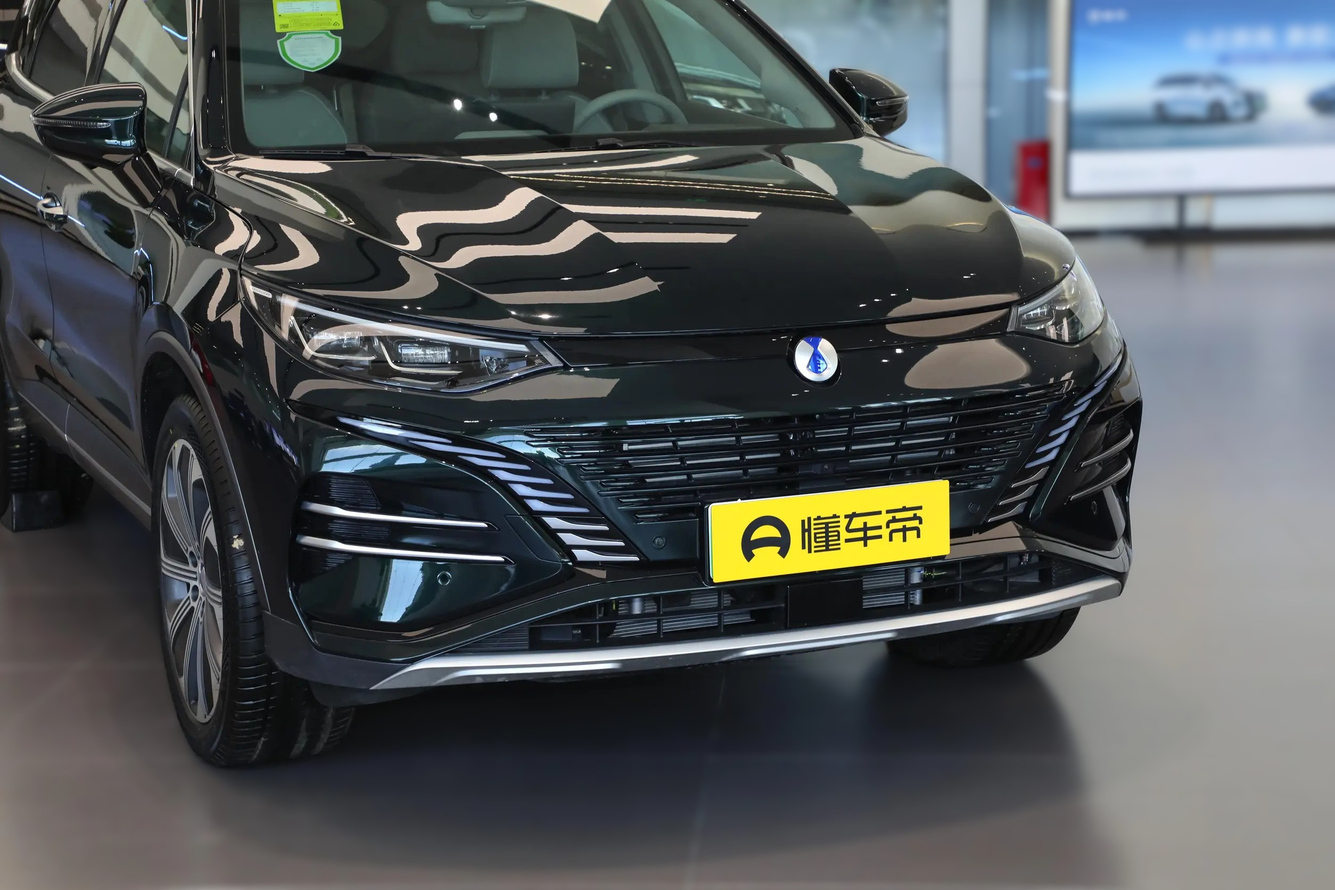DENZA: (795, 335, 837, 381)
